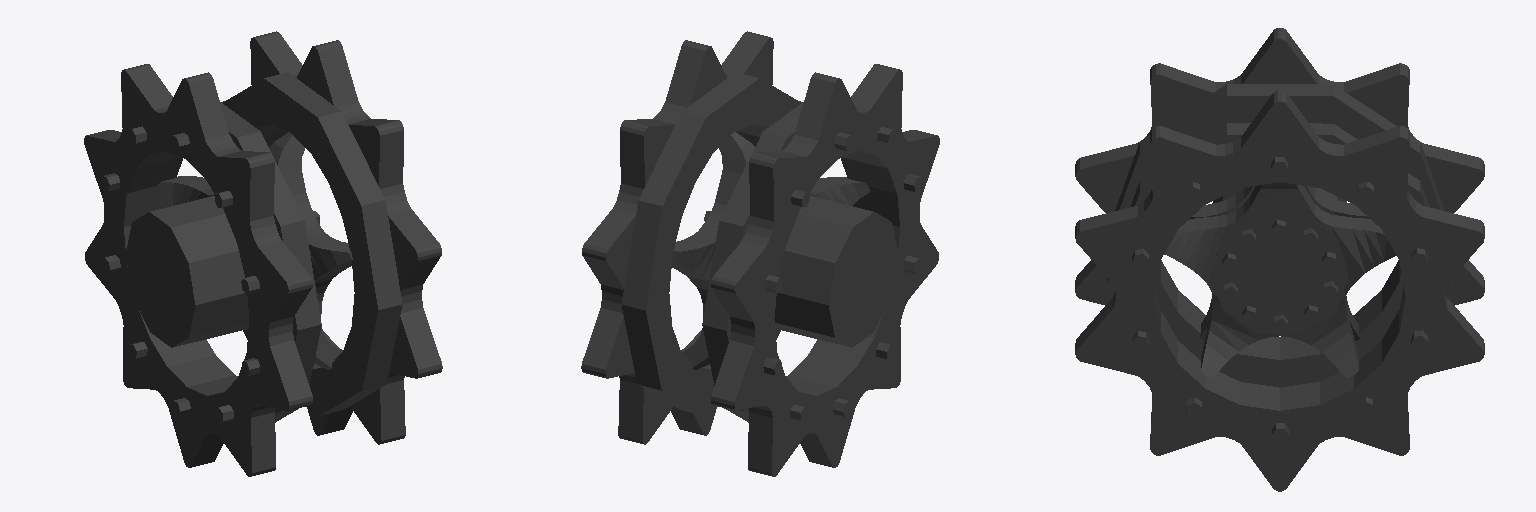
The model's file is Idle2.obj.
The picture shows the model from 3 angles: view 1: azimuth 30°, elevation 25°; view 2: azimuth 150°, elevation 25°; view 3: azimuth 270°, elevation 25°; orthographic projection.
Parts seen in each view (by area): view 1: napendowe1; view 2: napendowe1; view 3: napendowe1.
Boxes of the visible parts, x1=… form: napendowe1: x1=84, y1=31, x2=442, y2=476; napendowe1: x1=581, y1=31, x2=939, y2=476; napendowe1: x1=1075, y1=28, x2=1484, y2=491.
Size of the model in its own units: 7.91 by 15.38 by 14.64.